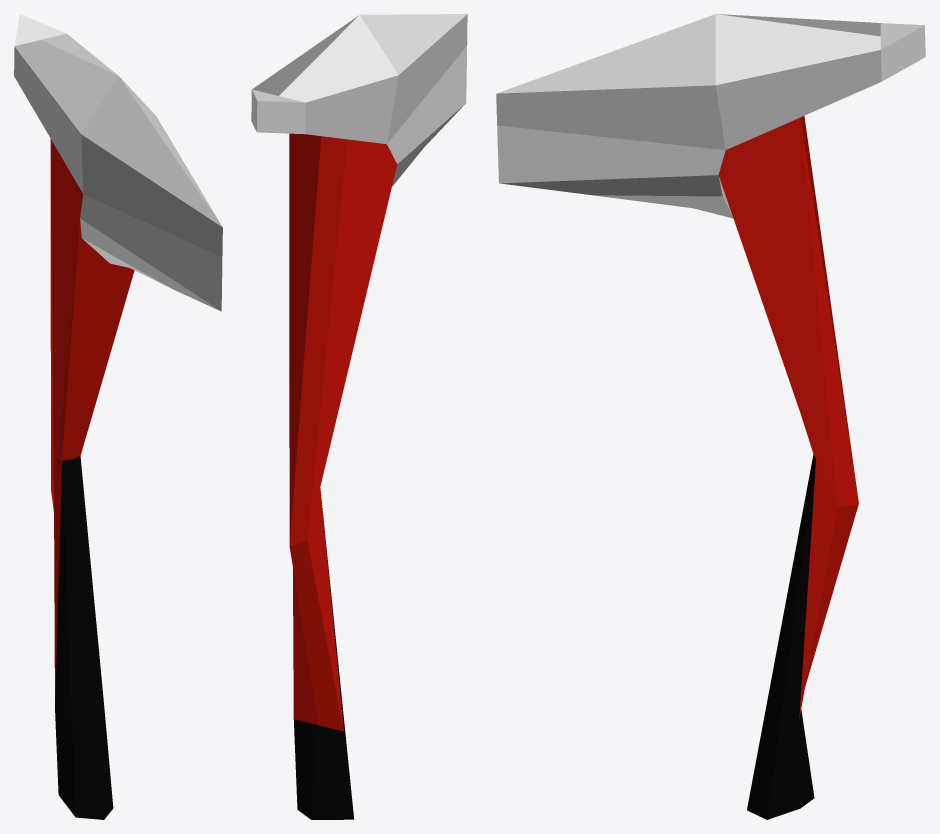
File: Axe.fbx
3 views of the same model, side by side, from view 1: azimuth 30°, elevation 25°; view 2: azimuth 150°, elevation 25°; view 3: azimuth 270°, elevation 25° (orthographic). The views are drawn at different scales.
Visible parts, largest first — view 1: Cube; view 2: Cube; view 3: Cube.
Boxes of the visible parts, left/top/right/bottom form: Cube: left=14, top=14, right=222, bottom=819; Cube: left=251, top=14, right=467, bottom=819; Cube: left=496, top=14, right=925, bottom=819.
Bounding box in the file's own units: 53.72 × 517 × 253.
